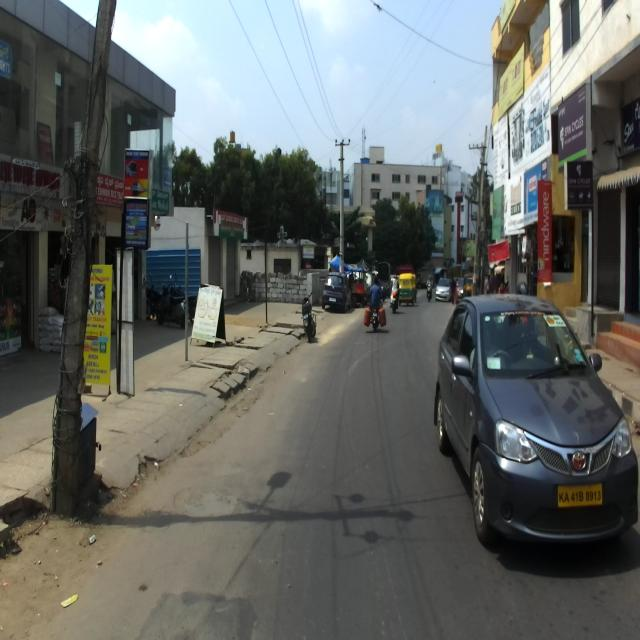car ahead at: (439, 285, 640, 563)
electric pole ahead at: (50, 0, 121, 518)
